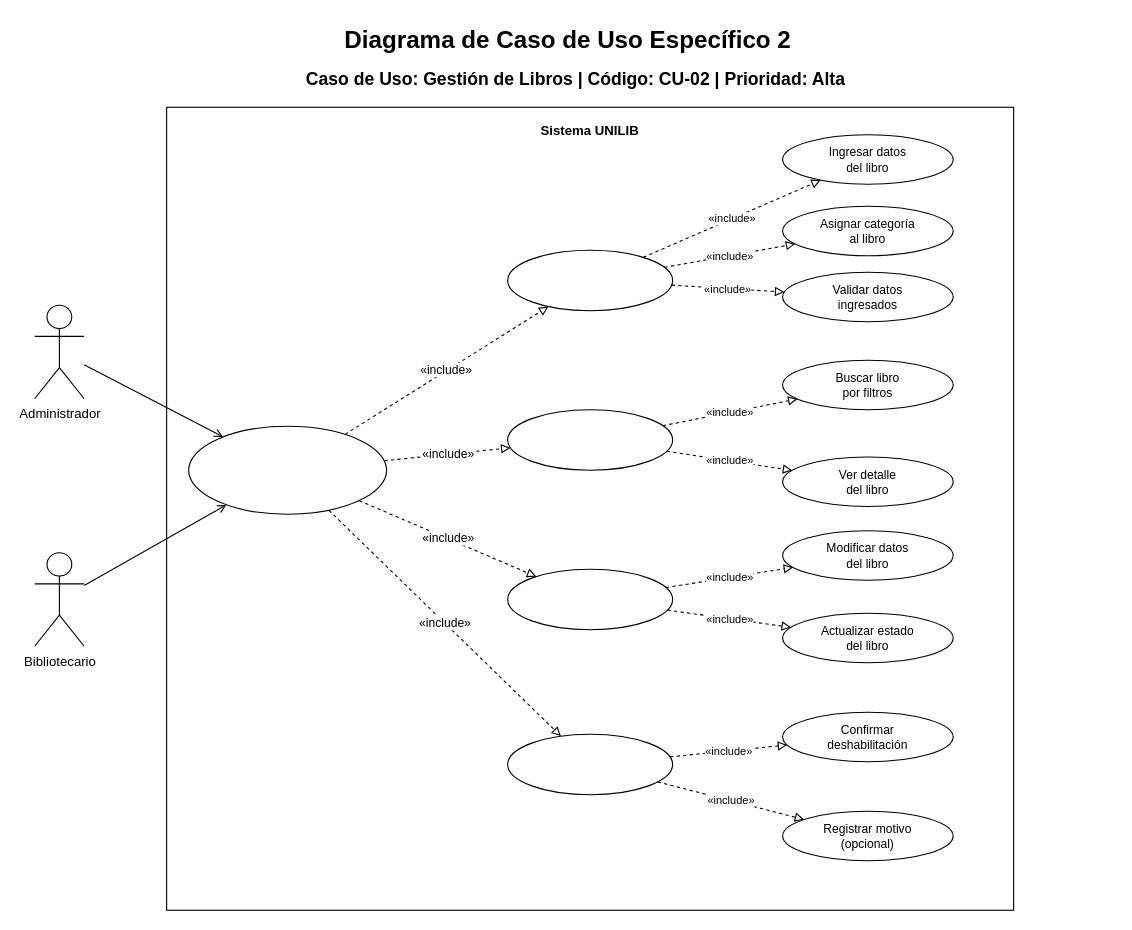
Some shapes in this 1132 by 930 pixel diagram are drawn without their labels. Here are the shapes that lost their labels. From the top down, the box of each, then its label:
(507, 249, 673, 311): Registrar libro
(507, 409, 673, 470): Consultar libro
(188, 425, 387, 514): Gestionar libros (Crear, consultar, editar, deshabilitar)
(507, 568, 673, 630): Editar libro
(507, 733, 673, 795): Deshabilitar libro
